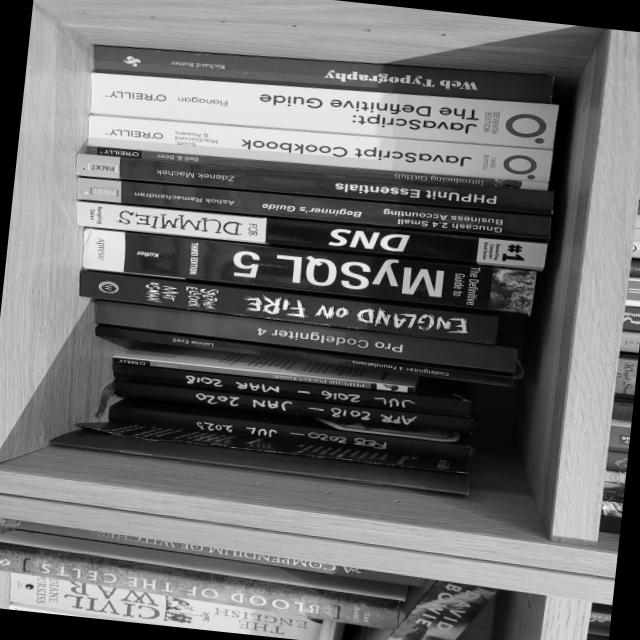book: (0, 523, 407, 632), (77, 226, 535, 314), (88, 71, 557, 150), (73, 199, 547, 271), (84, 113, 550, 183), (76, 268, 497, 345), (74, 174, 550, 242), (91, 298, 516, 373), (74, 152, 552, 216), (0, 517, 423, 588), (90, 44, 553, 104), (92, 322, 514, 387), (108, 396, 473, 463), (5, 571, 343, 640), (83, 144, 547, 192), (110, 361, 470, 417), (111, 379, 473, 434), (112, 339, 417, 394), (383, 555, 497, 640)
